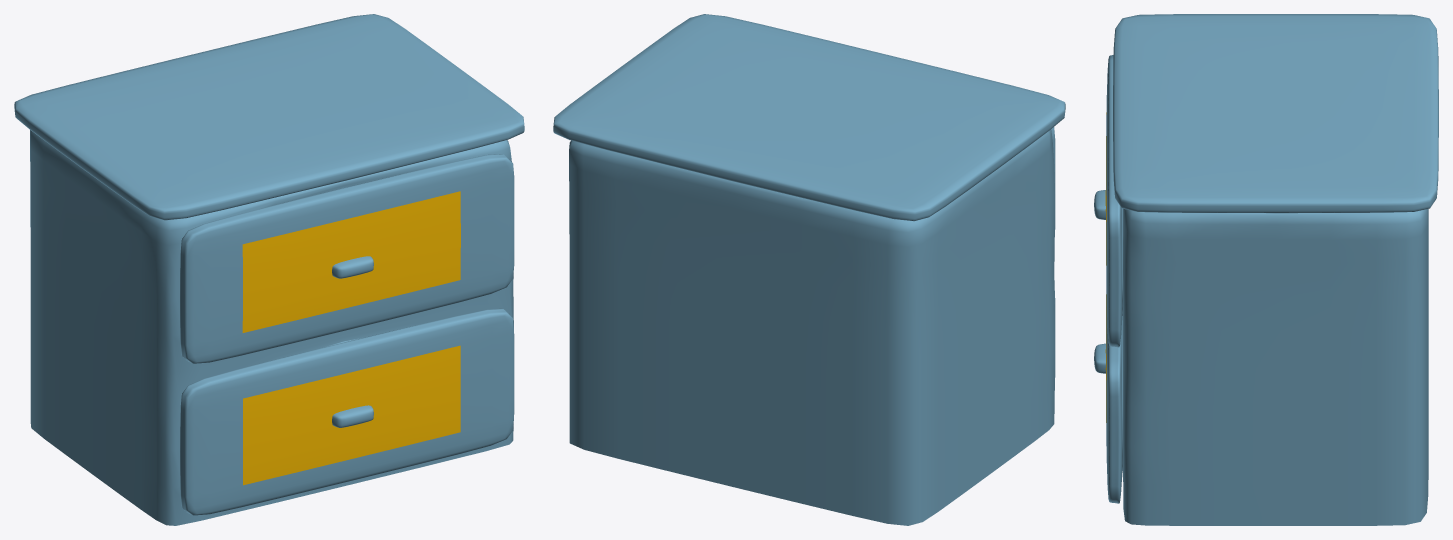
File: Dresser-1.fbx
3 renders of one model, left to right at view 1: azimuth 30°, elevation 25°; view 2: azimuth 150°, elevation 25°; view 3: azimuth 270°, elevation 25°, orthographic. The views are drawn at different scales.
Visible parts, largest first — view 1: Dresser.004, Dresser.005; view 2: Dresser.004; view 3: Dresser.004, Dresser.005.
Part boxes in pixels (x1,y1,x2,y2): Dresser.004: [14, 14, 524, 525]; Dresser.005: [332, 256, 373, 427]; Dresser.004: [553, 14, 1065, 525]; Dresser.004: [1105, 14, 1438, 525]; Dresser.005: [1094, 190, 1105, 373].
Size of the model in its own units: 1.9 by 1.56 by 1.46.
